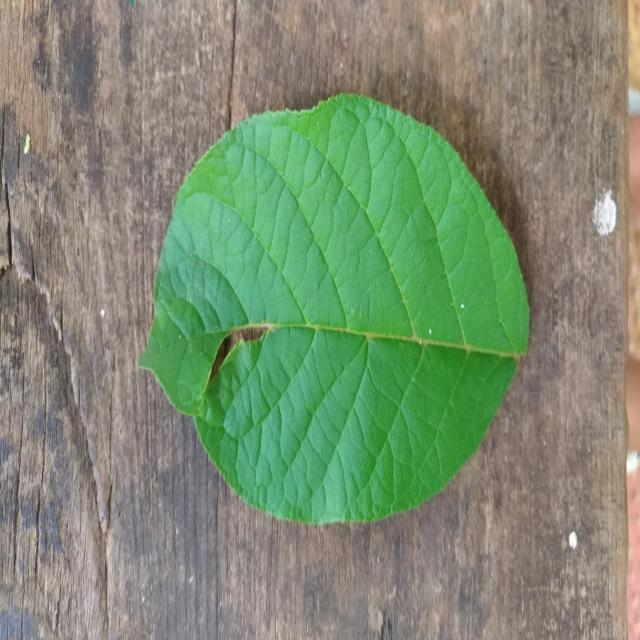padri: (140, 96, 529, 524)
